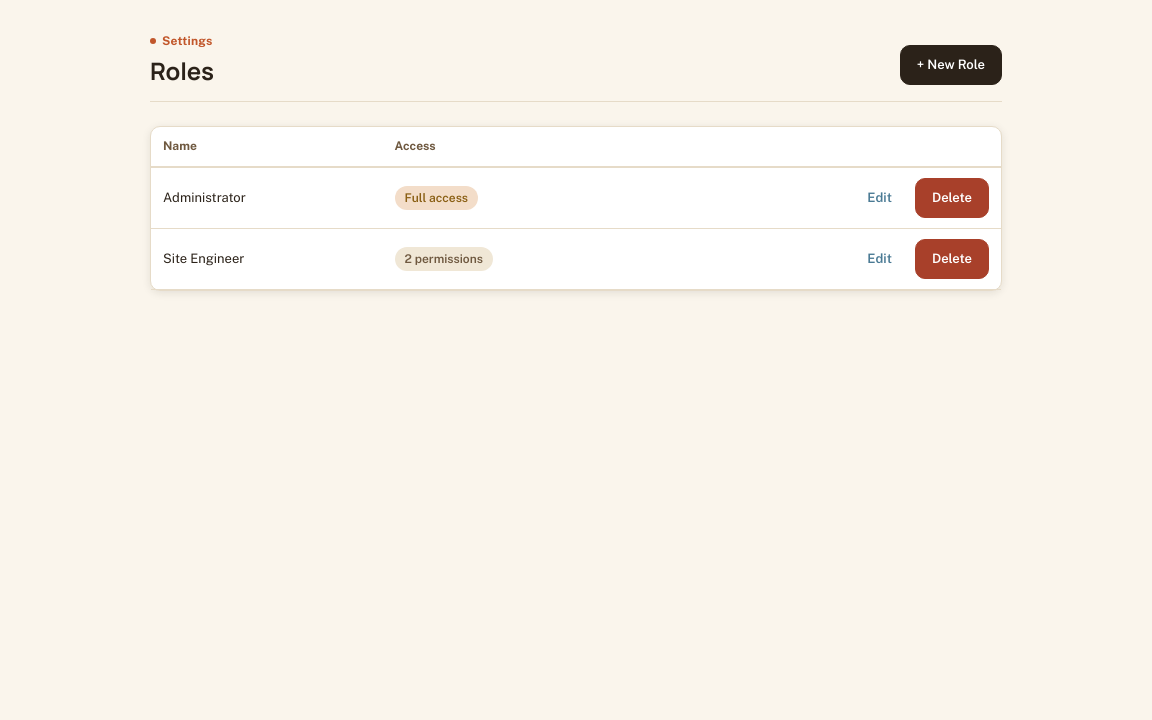
Test: RolesPage › edit pre-fills the existing role's real permissions
expect the text "Site Engineer" is shown: met, box [151, 229, 383, 290]
Click the button "Edit" in the row of "Site Engineer" at (880, 259), box [850, 239, 909, 279]
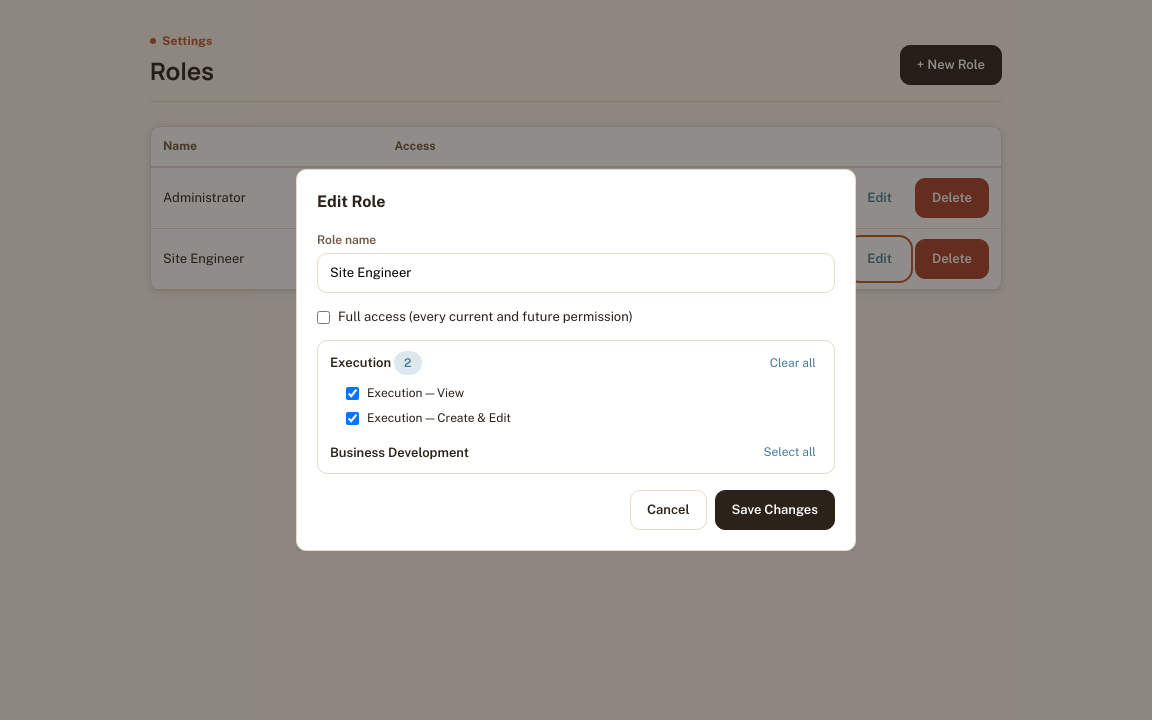
expect the field showing "Site Engineer" is shown: met, box [317, 253, 835, 293]
